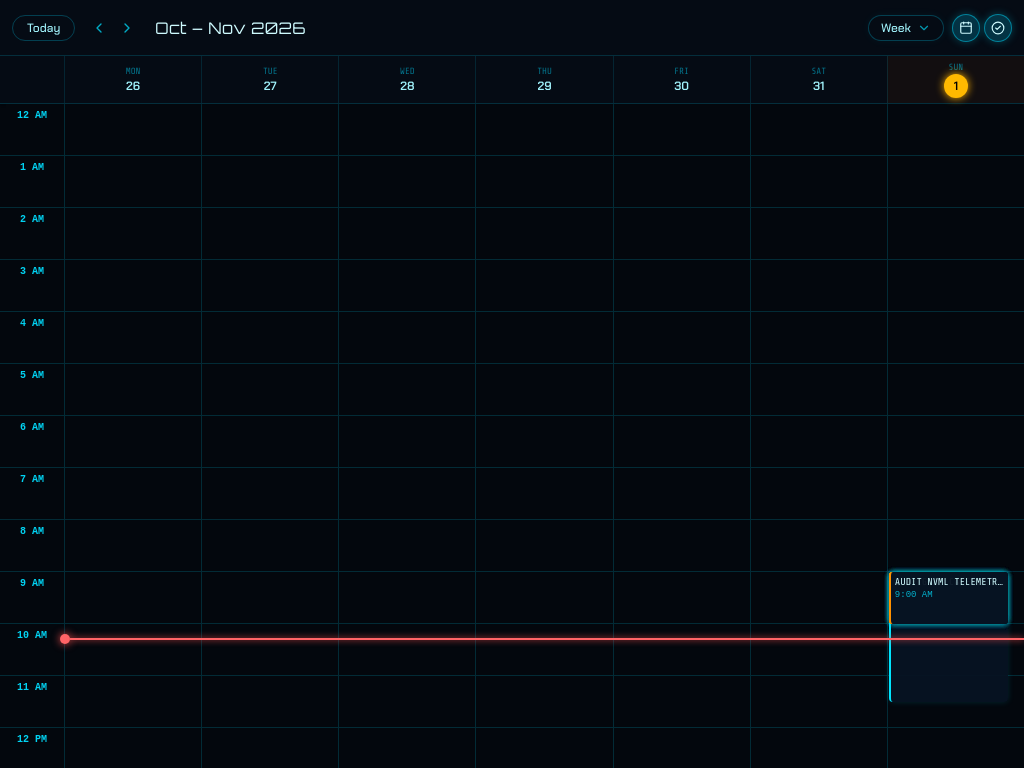
Scenario: CalendarView Component › switches mode when clicking an option in the dropdown and closes menu
The image size is (1024, 768).
What coordinates should you click on to do the following:
click the button with test id "mode-dropdown-button"
I would click on:
 (906, 28)
Its box is [868,14,944,40].
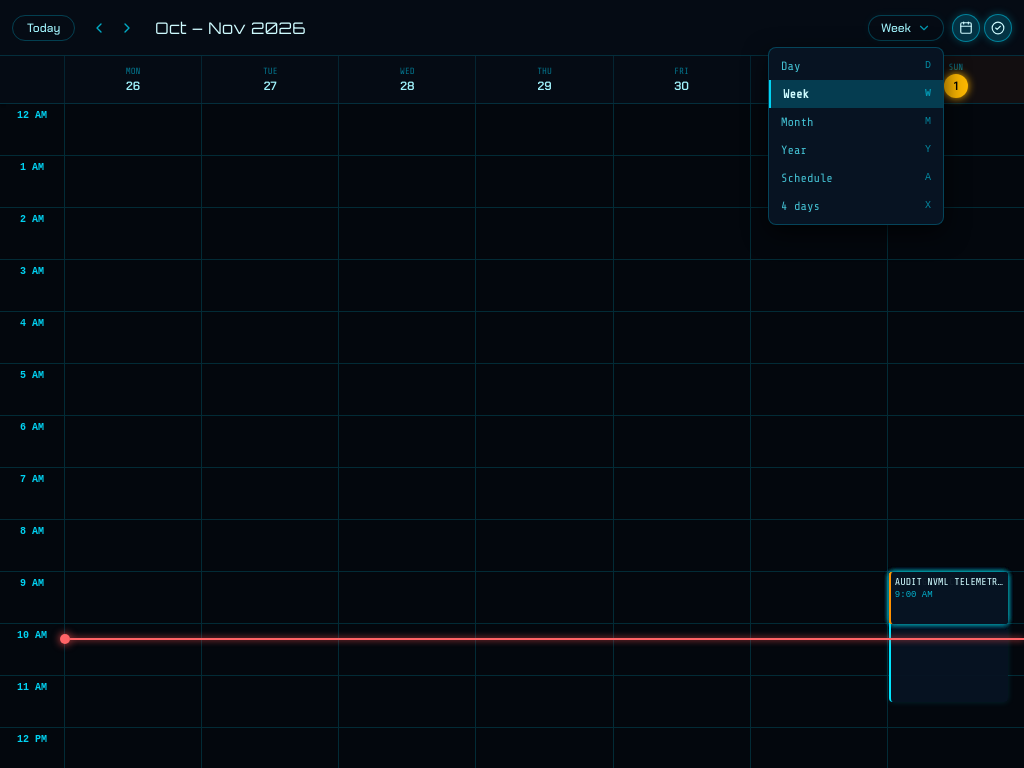
What coordinates should you click on to do the following:
click the button with test id "mode-option-month"
I would click on:
 (856, 122)
Its box is [769,108,943,136].
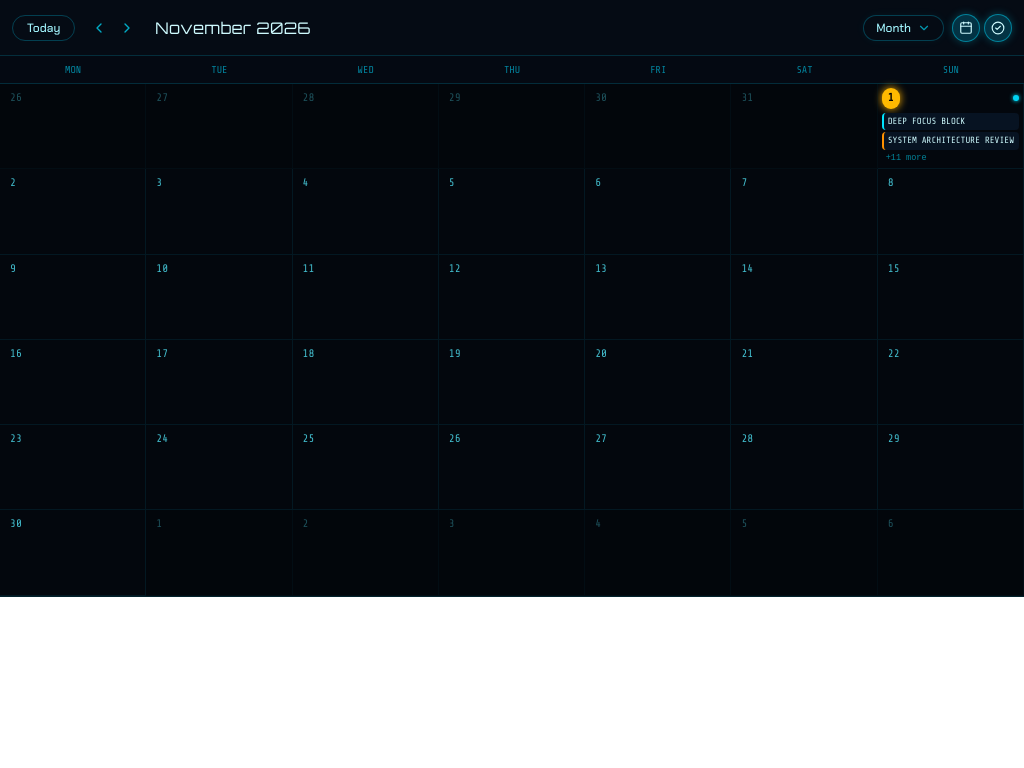
Now the element with test id "mode-dropdown-menu" is gone
Now the button with test id "mode-dropdown-button" reads "Month", box [863,14,944,40]
